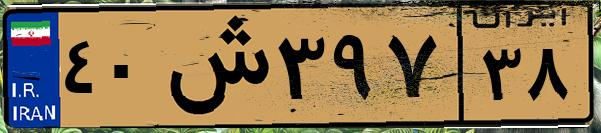0: (110, 28, 158, 98)
3: (270, 28, 330, 110), (475, 38, 525, 113)
4: (57, 26, 110, 100)
7: (385, 28, 445, 110)
8: (525, 38, 570, 115)
9: (330, 28, 385, 110)
ش: (158, 12, 270, 120)
